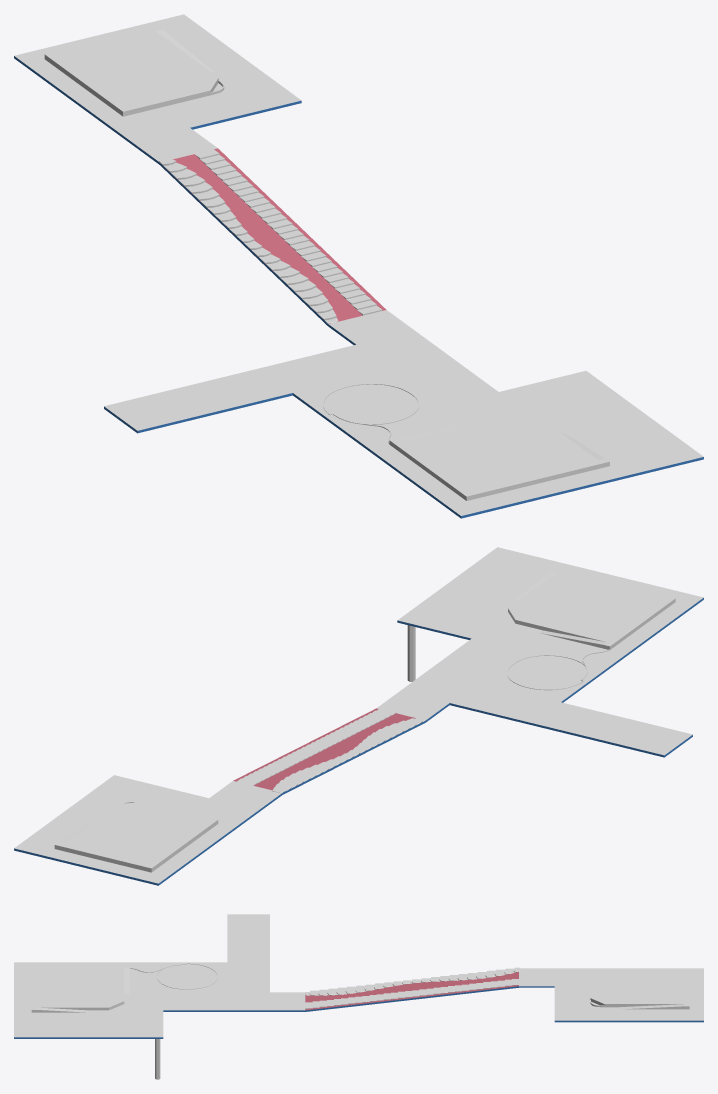
File: PlataformaCompletaJoao.fbx
3 views of the same model, one above another, from view 1: azimuth 30°, elevation 25°; view 2: azimuth 150°, elevation 25°; view 3: azimuth 270°, elevation 25° (orthographic). The views are drawn at different scales.
Parts seen in each view (by area): view 1: PlataformaInferior.001, BaseBrinquedos.001, BaseQuiosqueInferior, Plane, BaseQuiosqueSuperior, RampaEntrada.001, RampaEscada.001, EscadaRampaPrincipal, Cube.002, PlataformaInferior, InicioRampaEscada.001, FimRampaEscada.001; view 2: PlataformaInferior.001, BaseBrinquedos.001, BaseQuiosqueInferior, Plane, BaseQuiosqueSuperior, RampaEntrada.001, PlataformaInferior, RampaEscada.001, EscadaRampaPrincipal, Cube.002, FimRampaEscada.001, InicioRampaEscada.001; view 3: PlataformaInferior.001, BaseBrinquedos.001, BaseQuiosqueInferior, Plane, BaseQuiosqueSuperior, RampaEntrada.001, RampaEscada.001, PlataformaInferior, EscadaRampaPrincipal, Cube.002, InicioRampaEscada.001, FimRampaEscada.001.
Boxes of the visible parts, x1,y1,x2,y2 form: PlataformaInferior.001: (344, 371, 703, 515); BaseBrinquedos.001: (259, 330, 498, 429); BaseQuiosqueInferior: (389, 415, 609, 500); Plane: (14, 14, 301, 141); BaseQuiosqueSuperior: (44, 26, 218, 116); RampaEntrada.001: (104, 368, 292, 430); RampaEscada.001: (160, 148, 386, 323); EscadaRampaPrincipal: (195, 149, 382, 315); Cube.002: (159, 158, 338, 323); PlataformaInferior: (14, 56, 703, 518); InicioRampaEscada.001: (328, 310, 414, 344); FimRampaEscada.001: (132, 128, 217, 161); PlataformaInferior.001: (397, 547, 703, 670); BaseBrinquedos.001: (400, 638, 603, 722); BaseQuiosqueInferior: (508, 569, 675, 649); Plane: (14, 775, 258, 883); BaseQuiosqueSuperior: (54, 801, 218, 872); RampaEntrada.001: (532, 702, 692, 755); PlataformaInferior: (14, 598, 703, 885); RampaEscada.001: (233, 708, 415, 790); EscadaRampaPrincipal: (237, 708, 396, 785); Cube.002: (272, 718, 425, 793); FimRampaEscada.001: (209, 781, 281, 810); InicioRampaEscada.001: (376, 691, 449, 719); PlataformaInferior.001: (14, 962, 163, 1037); BaseBrinquedos.001: (163, 962, 269, 1010); BaseQuiosqueInferior: (31, 965, 129, 1012); Plane: (554, 968, 703, 1020); BaseQuiosqueSuperior: (590, 971, 689, 1009); RampaEntrada.001: (227, 914, 269, 962); RampaEscada.001: (305, 972, 518, 1010); PlataformaInferior: (14, 986, 703, 1038); EscadaRampaPrincipal: (305, 979, 518, 1008); Cube.002: (305, 967, 520, 995); InicioRampaEscada.001: (270, 992, 305, 1010); FimRampaEscada.001: (519, 968, 554, 986).
Bounding box in the file's own units: 8700 × 2243 × 19411.
